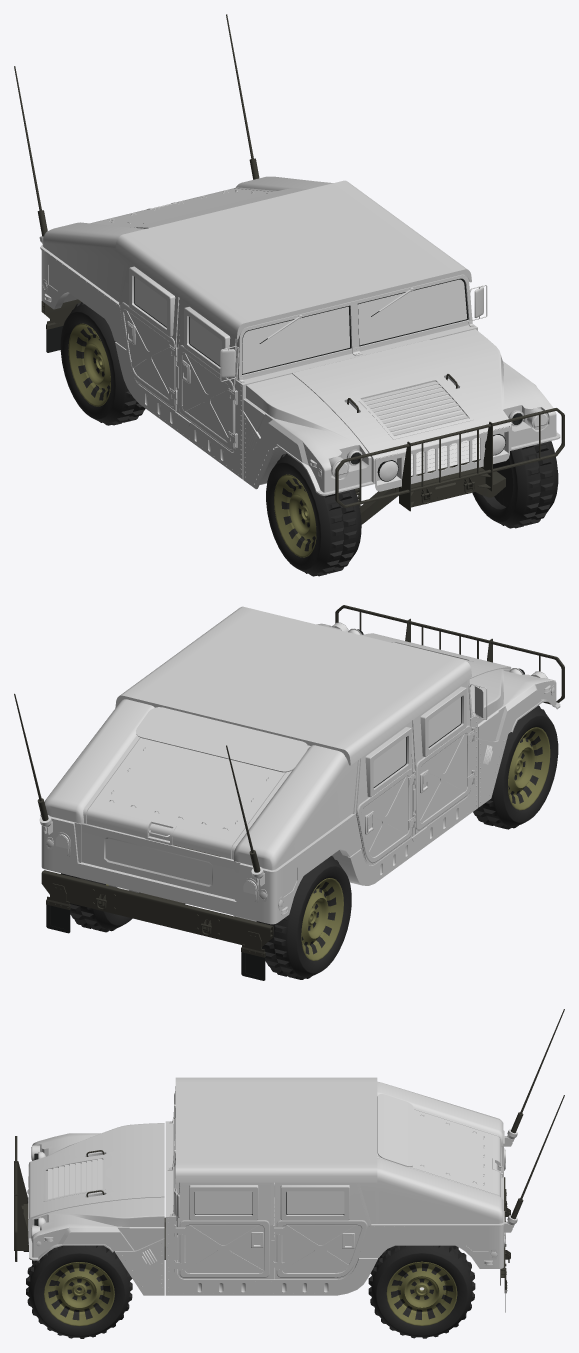
File: hmmwv.fbx
The picture shows the model from 3 angles, top to bottom: view 1: azimuth 30°, elevation 25°; view 2: azimuth 150°, elevation 25°; view 3: azimuth 270°, elevation 25°; orthographic projection. The views are drawn at different scales.
Visible parts, largest first — view 1: Hummer, wr1, wr2, wl1; view 2: Hummer, wr2, wr1, Hummer.002; view 3: Hummer, Hummer.002, wl1.
Boxes of the visible parts, x1=… form: Hummer: x1=14, y1=14, x2=564, y2=511; wr1: x1=266, y1=453, x2=361, y2=576; wr2: x1=60, y1=302, x2=145, y2=425; wl1: x1=472, y1=427, x2=558, y2=528; Hummer: x1=14, y1=605, x2=564, y2=980; wr2: x1=256, y1=856, x2=351, y2=979; wr1: x1=473, y1=705, x2=558, y2=829; Hummer.002: x1=61, y1=873, x2=132, y2=932; Hummer: x1=14, y1=1009, x2=564, y2=1312; Hummer.002: x1=368, y1=1245, x2=475, y2=1338; wl1: x1=26, y1=1245, x2=132, y2=1338.
Bounding box in the file's own units: 2.69 × 2.81 × 5.78.
